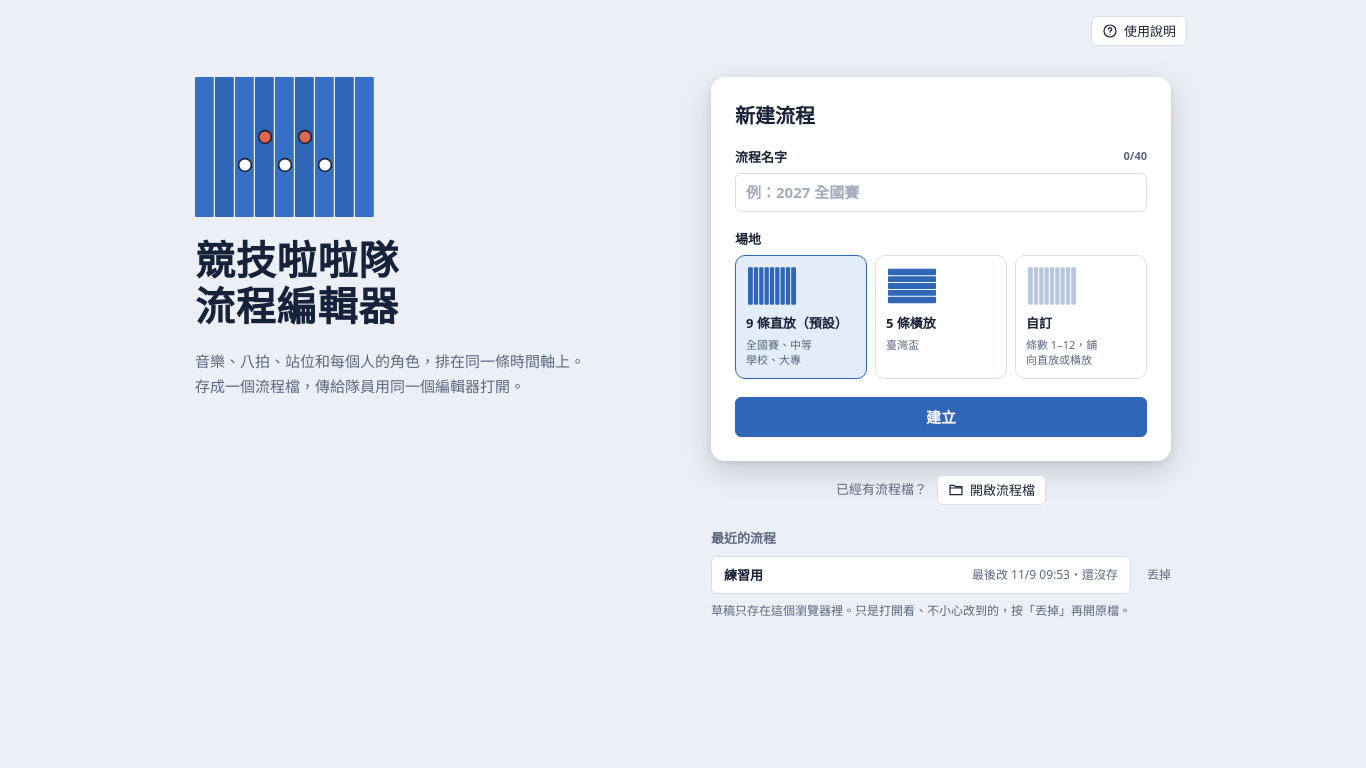
Test case: 首頁：最近的流程 › 按「丟掉」先問；按取消草稿還在，確定才丟掉
The width and height of the screenshot is (1366, 768).
Click the button with aria-label "丟掉「練習用」": (1159, 575) [1147,565,1171,585]
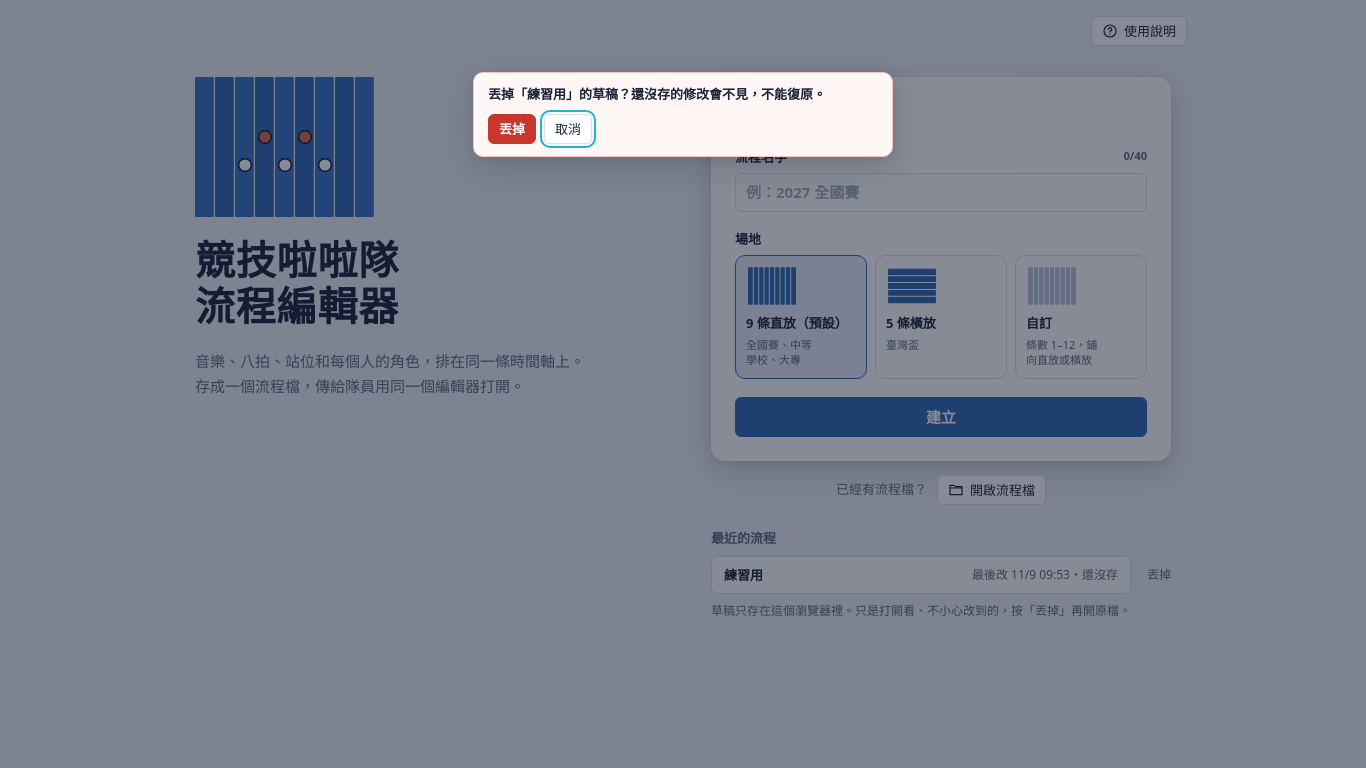
Now the dialog shows "丟掉「練習用」的草稿？", box [488,85,826,103]
Click the button "取消": (568, 129) [544,114,592,144]
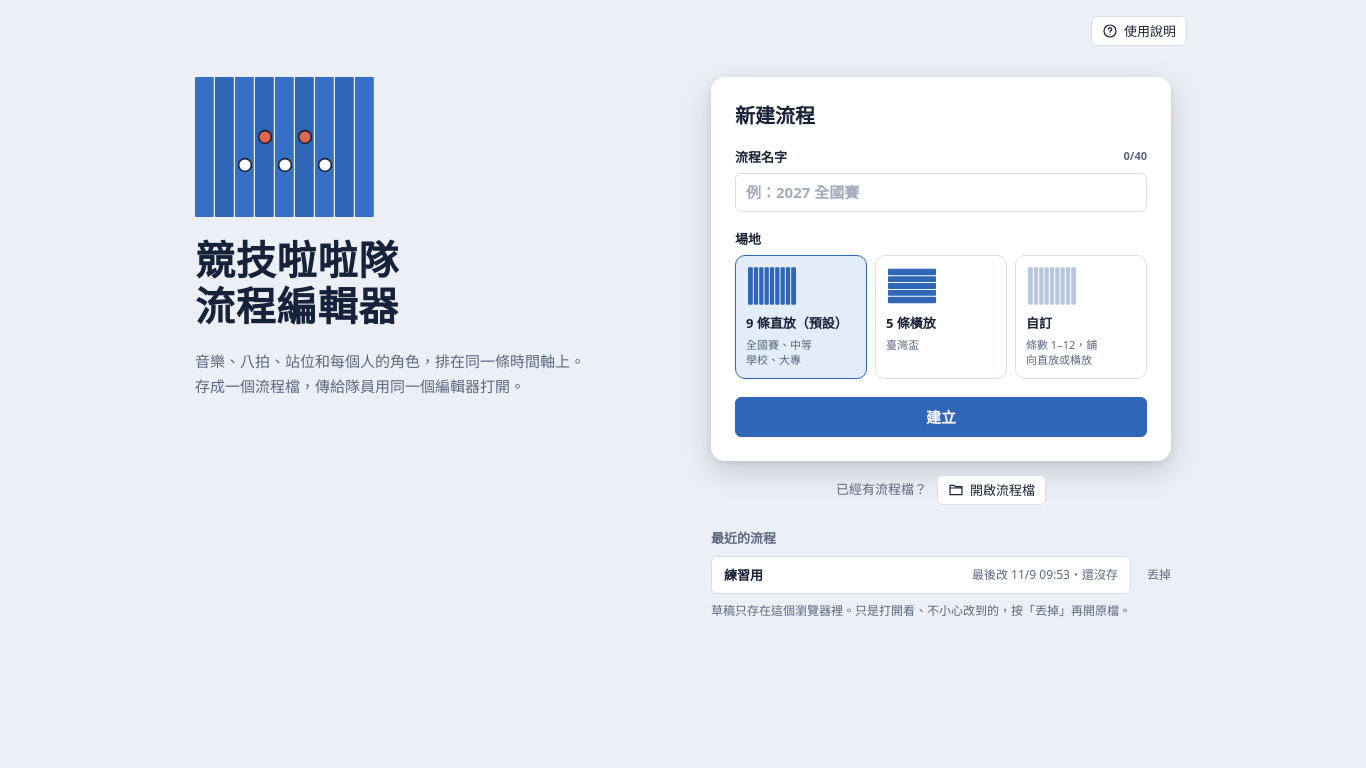
Now the dialog is gone
Click the button with aria-label "丟掉「練習用」": (1159, 575) [1147,565,1171,585]
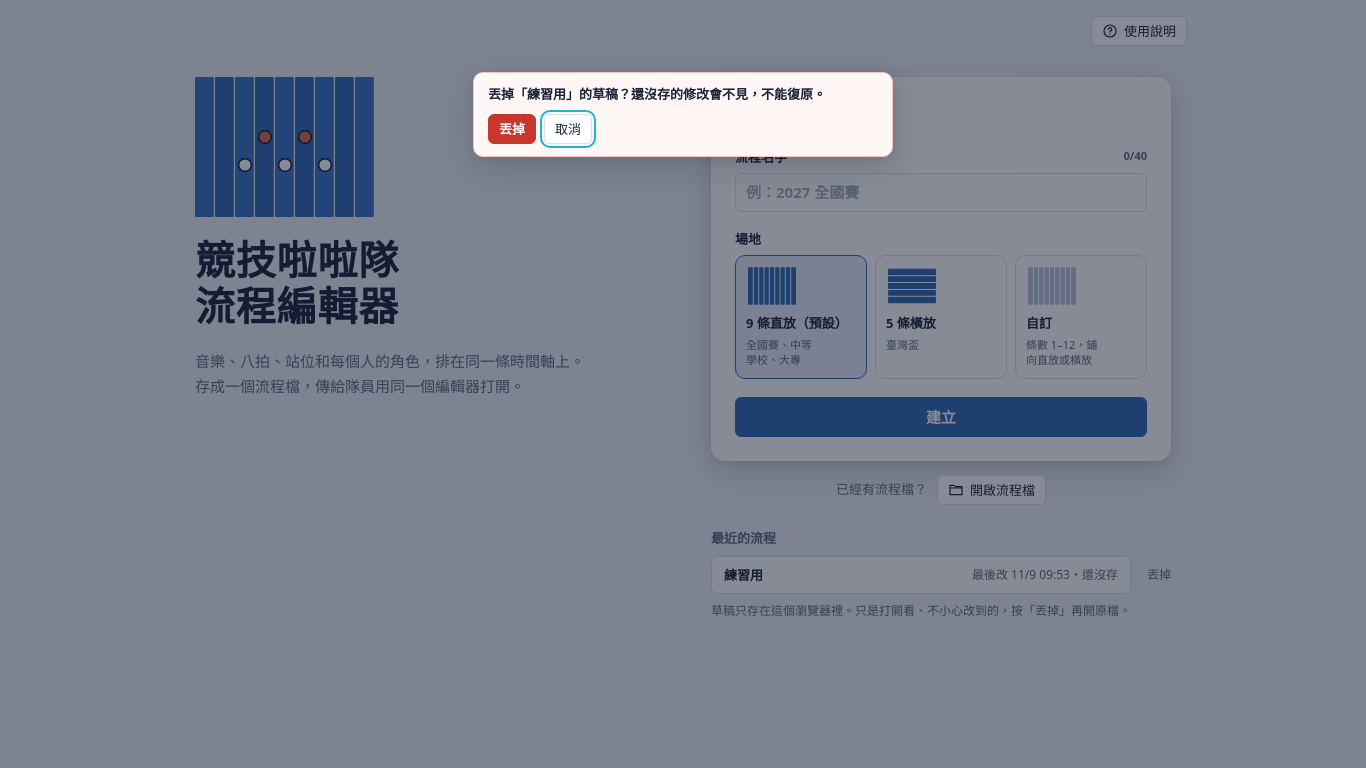
Click the button "丟掉": (512, 129) [488,114,536,144]
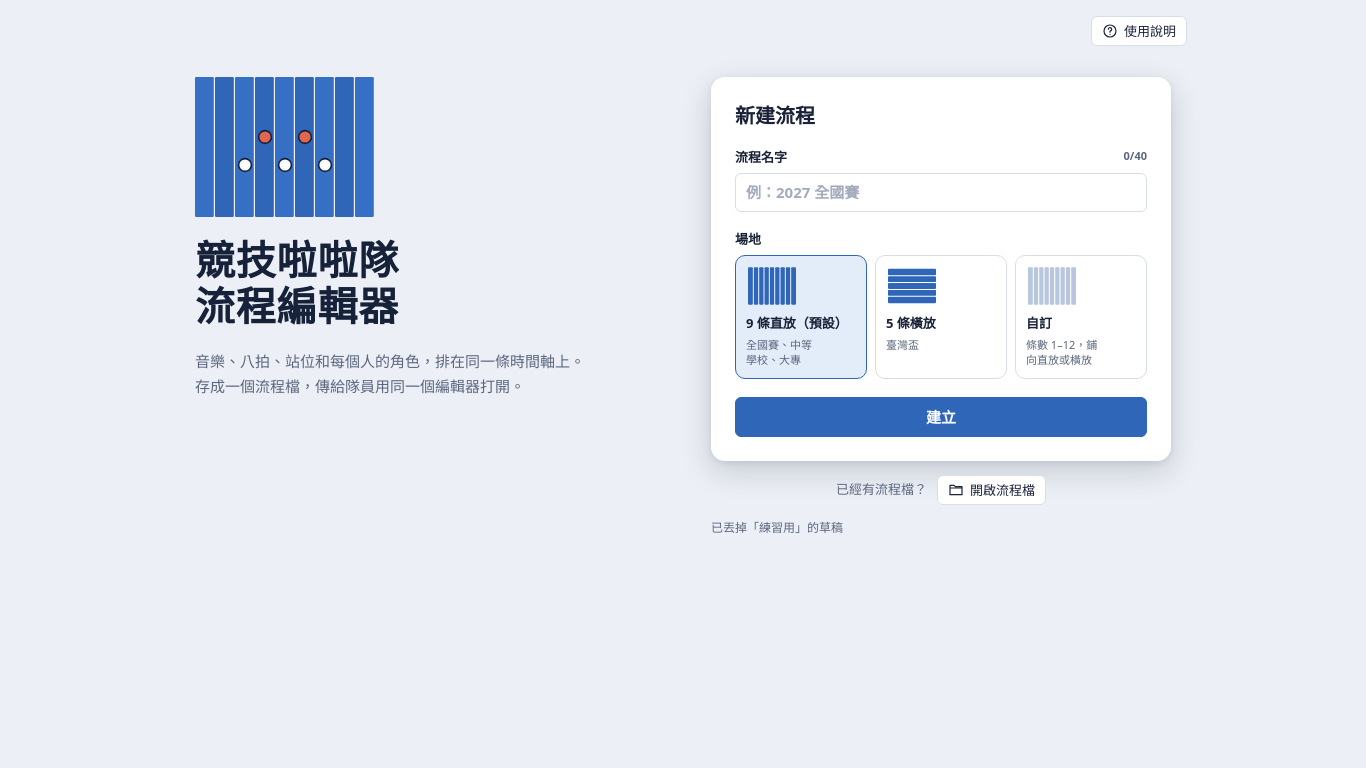
Now the heading "最近的流程" is gone
